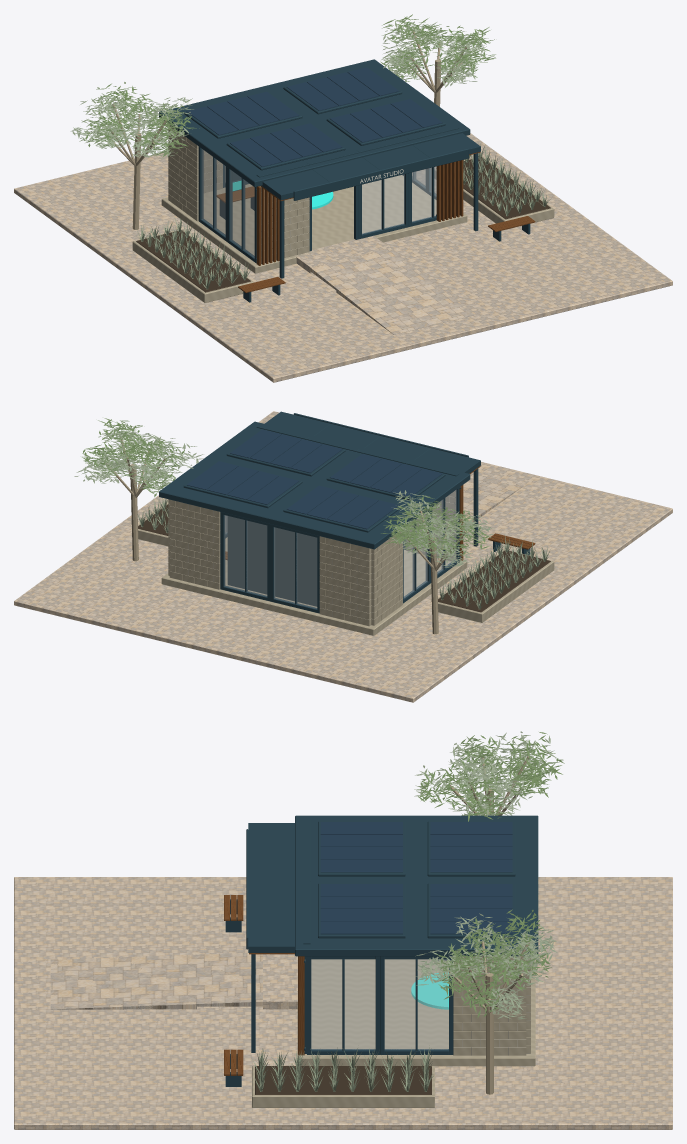
The model's file is studio.glb.
3 views of the same model, one above another, from view 1: azimuth 30°, elevation 25°; view 2: azimuth 150°, elevation 25°; view 3: azimuth 270°, elevation 25° (orthographic). The views are drawn at different scales.
Parts seen in each view (by area): view 1: Whole item paving, Roof slab, Foundation, window-2m part.001, ramp-3p2x2 part.001, ramp-3p2x2 part, Mulch.006, ramp-3p2x2 part.002, window-2m part.004, window-2m part.006, wall-2m part.003, Mulch.007 (+34 smaller); view 2: Whole item paving, Roof slab, Identity feature wall, wall-2m part.001, wall-2m part.002, Foundation, window-2m part.002, window-2m part, Mulch.006, wall-2m part.003, Garden edge.006, window-2m part.006 (+31 smaller); view 3: Whole item paving, Roof slab, Foundation, window-2m part.005, window-2m part.007, wall-2m part.004, Mulch.007, ramp-3p2x2 part.001, ramp-3p2x2 part, ramp-3p2x2 part.002, Garden edge.007, landing part (+29 smaller).
Boxes of the visible parts, bbox=[...] form: Whole item paving: bbox=[14, 133, 672, 382]; Roof slab: bbox=[159, 59, 470, 187]; Foundation: bbox=[161, 175, 467, 273]; window-2m part.001: bbox=[359, 173, 408, 239]; ramp-3p2x2 part.001: bbox=[336, 269, 444, 313]; ramp-3p2x2 part: bbox=[365, 292, 473, 334]; Mulch.006: bbox=[136, 230, 250, 292]; ramp-3p2x2 part.002: bbox=[307, 248, 415, 289]; window-2m part.004: bbox=[227, 167, 256, 263]; window-2m part.006: bbox=[198, 146, 227, 241]; wall-2m part.003: bbox=[168, 125, 198, 221]; Mulch.007: bbox=[436, 157, 550, 219]; Whole item paving: bbox=[14, 411, 672, 702]; Roof slab: bbox=[159, 421, 470, 549]; Identity feature wall: bbox=[227, 516, 317, 606]; wall-2m part.001: bbox=[319, 536, 371, 626]; wall-2m part.002: bbox=[169, 499, 220, 589]; Foundation: bbox=[161, 537, 467, 635]; window-2m part.002: bbox=[220, 512, 270, 601]; window-2m part: bbox=[270, 524, 319, 613]; Mulch.006: bbox=[438, 550, 550, 612]; wall-2m part.003: bbox=[371, 532, 402, 625]; Garden edge.006: bbox=[438, 549, 554, 622]; window-2m part.006: bbox=[403, 509, 430, 603]; Whole item paving: bbox=[14, 877, 672, 1129]; Roof slab: bbox=[295, 815, 538, 956]; Foundation: bbox=[297, 956, 535, 1066]; window-2m part.005: bbox=[307, 956, 379, 1054]; window-2m part.007: bbox=[380, 956, 453, 1054]; wall-2m part.004: bbox=[453, 956, 526, 1055]; Mulch.007: bbox=[255, 1066, 431, 1094]; ramp-3p2x2 part.001: bbox=[124, 954, 196, 1009]; ramp-3p2x2 part: bbox=[50, 957, 123, 1009]; ramp-3p2x2 part.002: bbox=[197, 952, 269, 1006]; Garden edge.007: bbox=[252, 1066, 434, 1107]; landing part: bbox=[263, 954, 297, 1009].
Bounding box in the file's own units: 16.49 × 5.17 × 18.
Materials: 14 (3 with a texture image).
